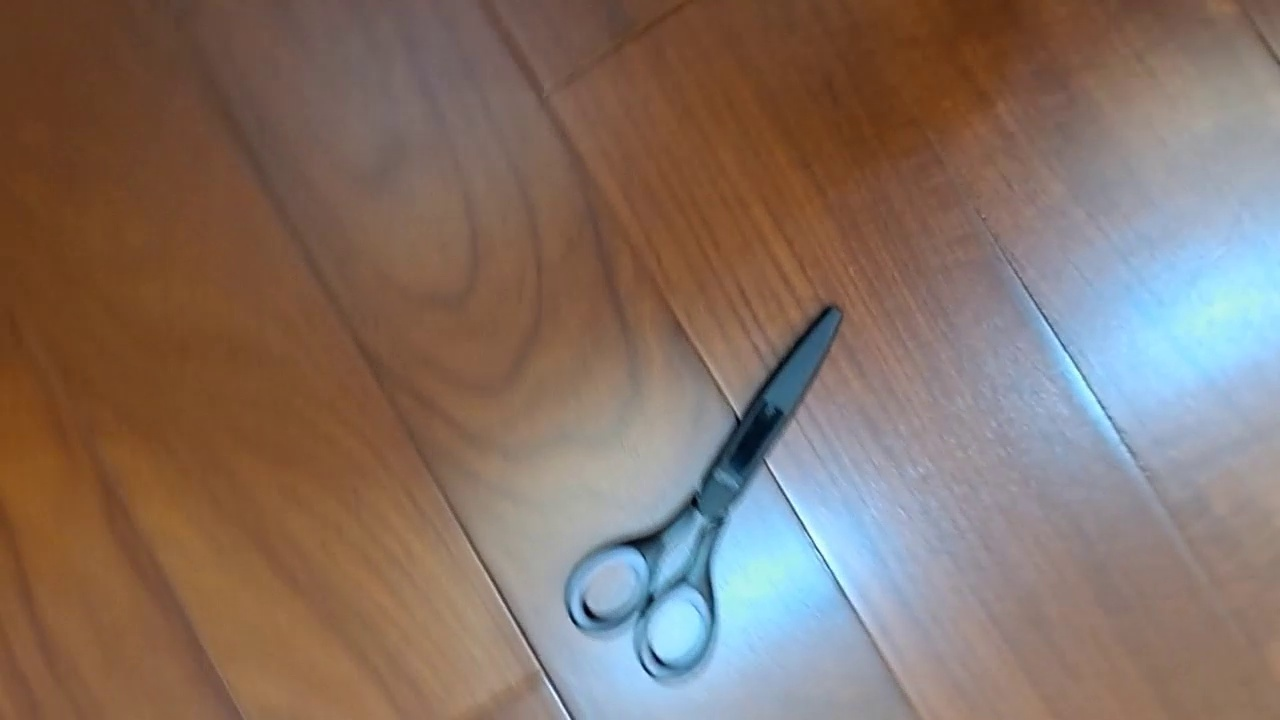scissors: (562, 302, 845, 686)
